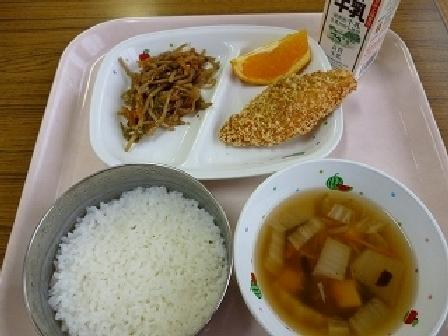Citrus: (237, 21, 316, 80)
Milk: (314, 0, 405, 63)
Rice: (29, 162, 238, 324)
Soups: (247, 173, 434, 327)
cutlet: (224, 80, 360, 153)
salad with sauce: (114, 38, 212, 141)
